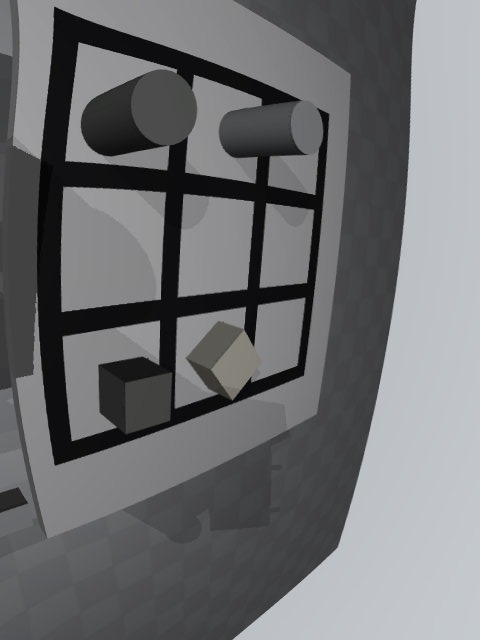can: (219, 100, 324, 158)
cube: (98, 357, 172, 434)
cylinder: (81, 69, 198, 157)
foam: (186, 320, 262, 400)
